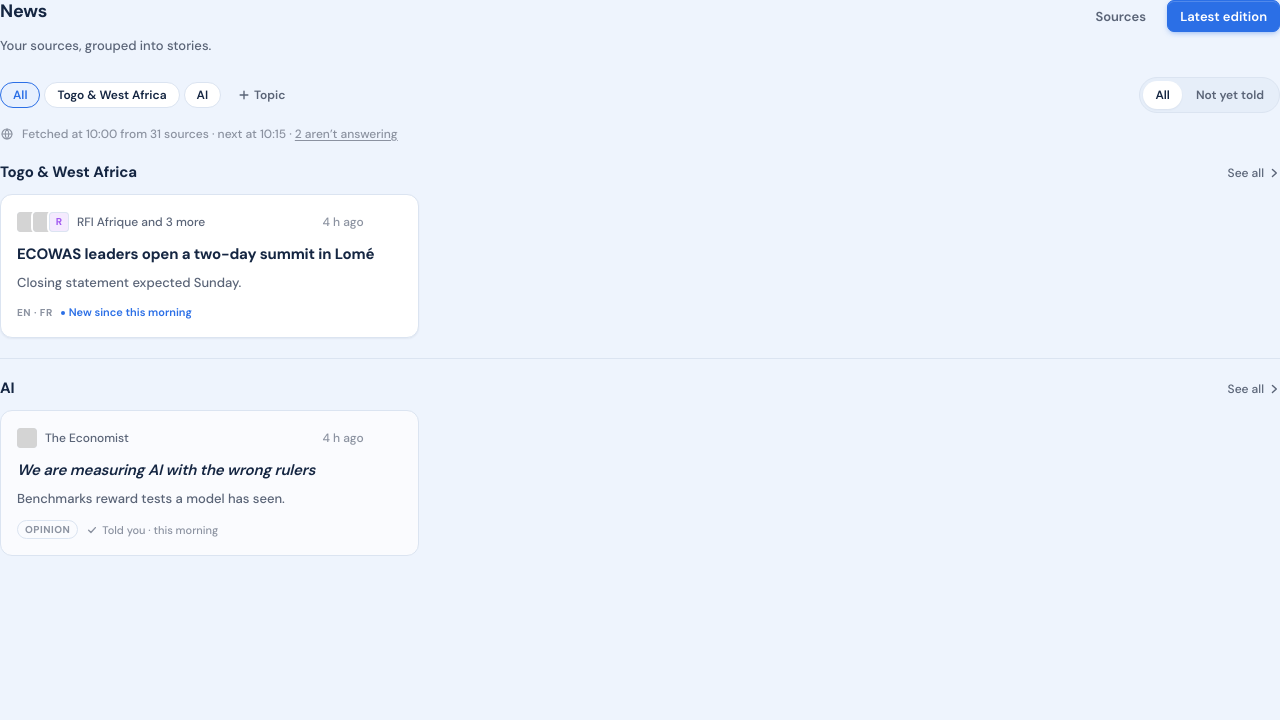
the News page grammar (host API 1.27) › opens a story in its sheet: the update, the sources linked out, how it moved, and the ways out at its foot
The width and height of the screenshot is (1280, 720).
Click the heading "ECOWAS leaders open a two-day summit in Lomé": (209, 255) 17,245 -> 402,265
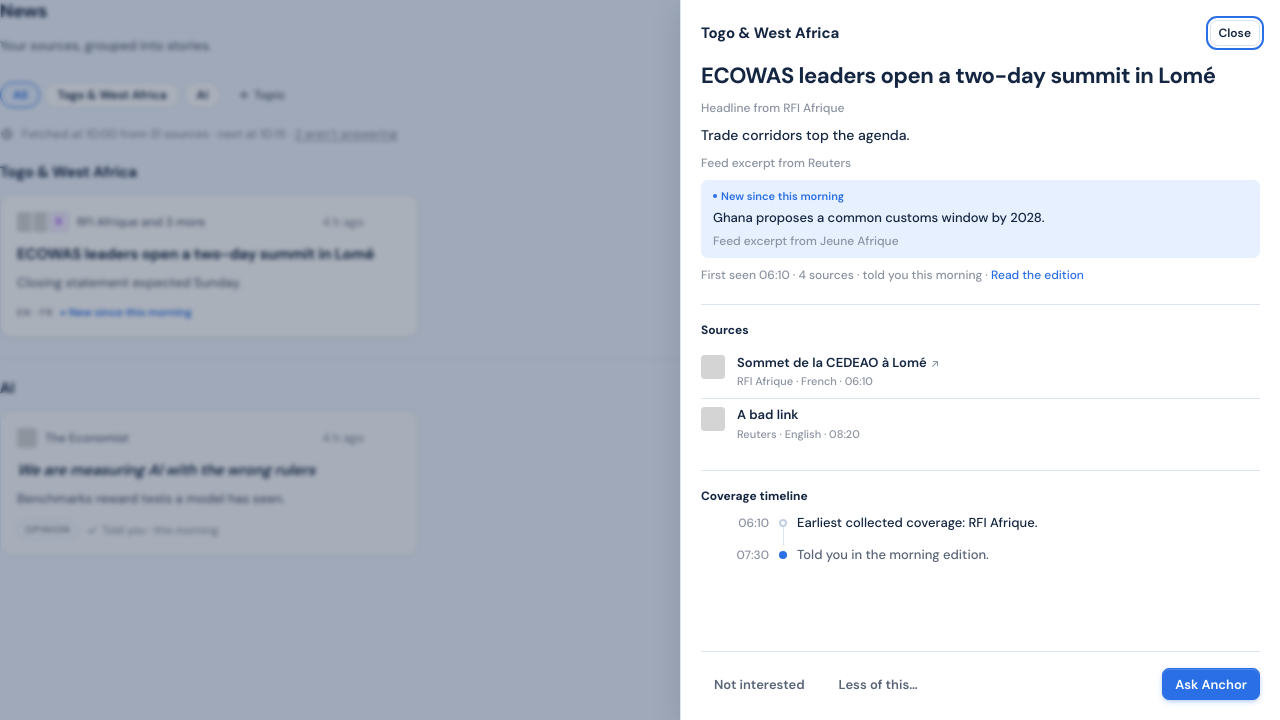
Check: the heading "Togo & West Africa" is shown, box 701,22 -> 839,44
Check: the text "Trade corridors top the agenda." is shown, box 701,125 -> 910,146
Check: the text "Ghana proposes a common customs window by 2028." is shown, box 713,208 -> 1045,228
Click the link "Ask Anchor": (1211, 684) 1162,668 -> 1260,700
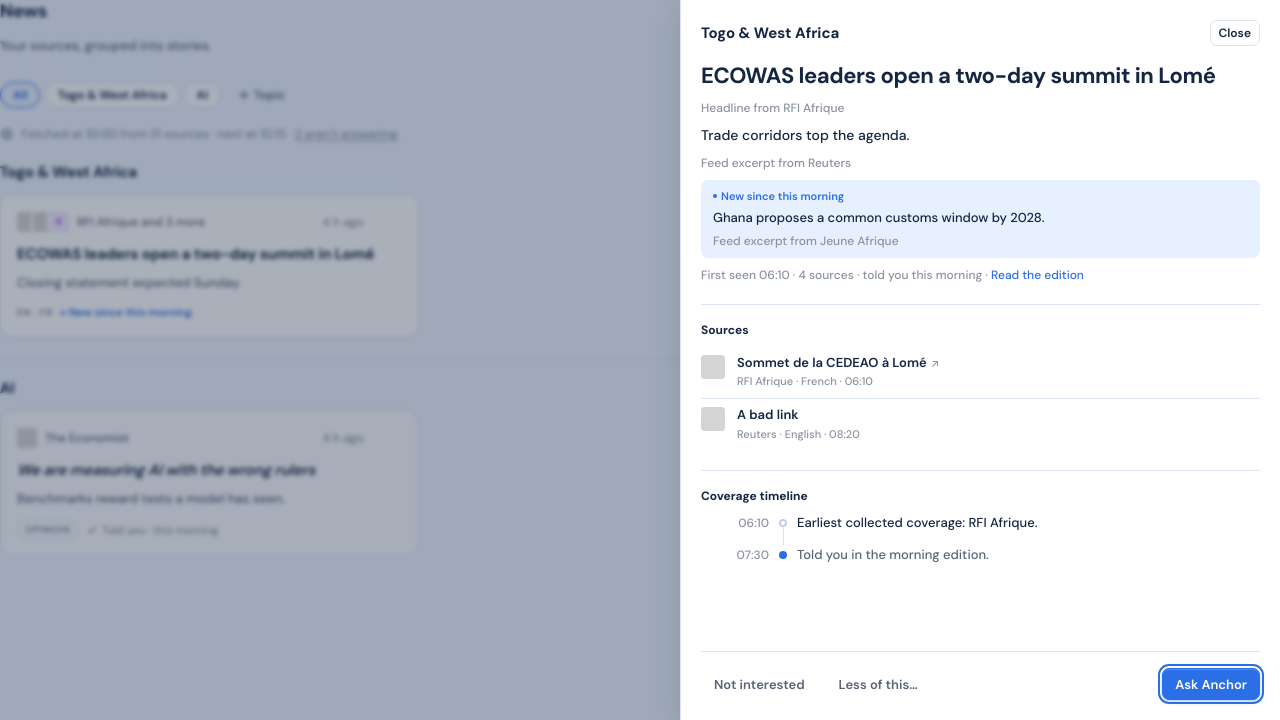
Click the button "Not interested": (759, 684) 701,668 -> 818,700
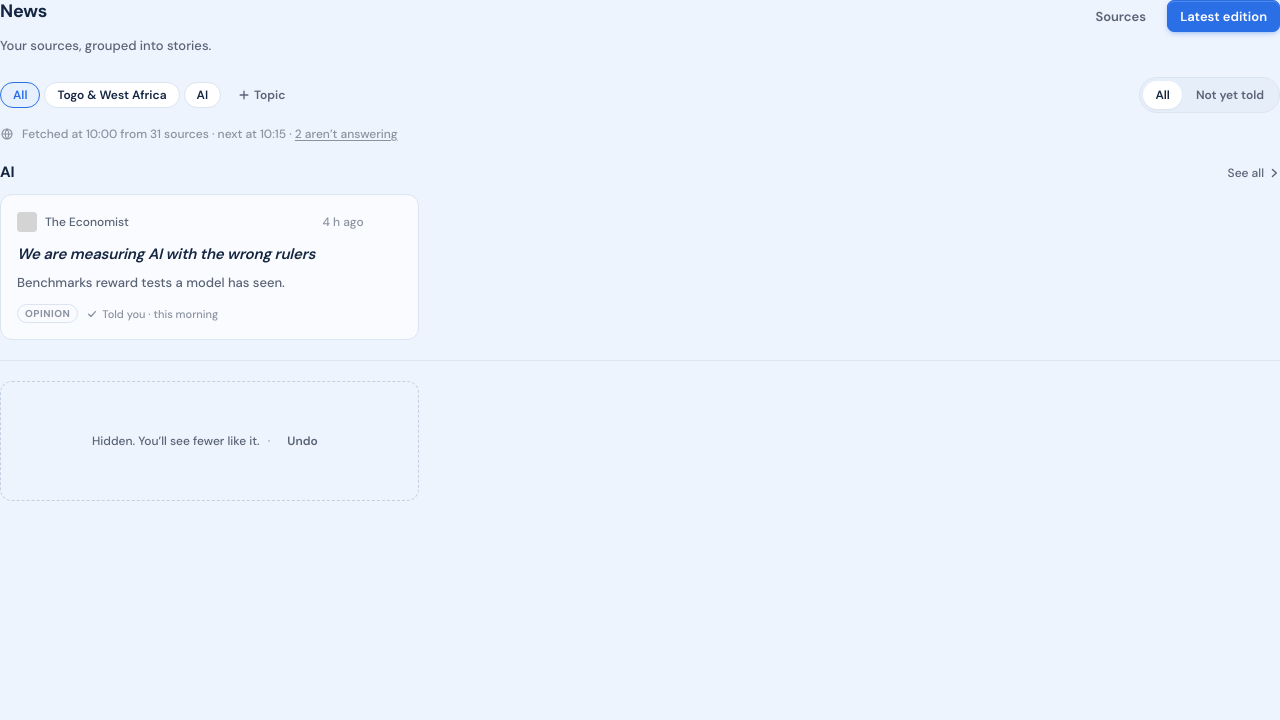
Check: the dialog is gone
Check: the text "Hidden. You’ll see fewer like it." is shown, box 92,432 -> 260,450
